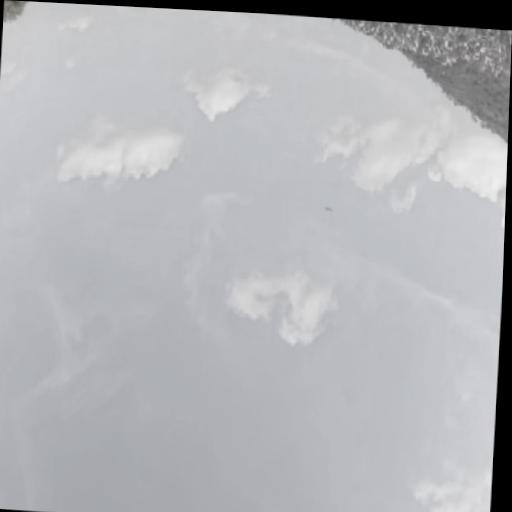drones: (321, 200, 334, 221)
